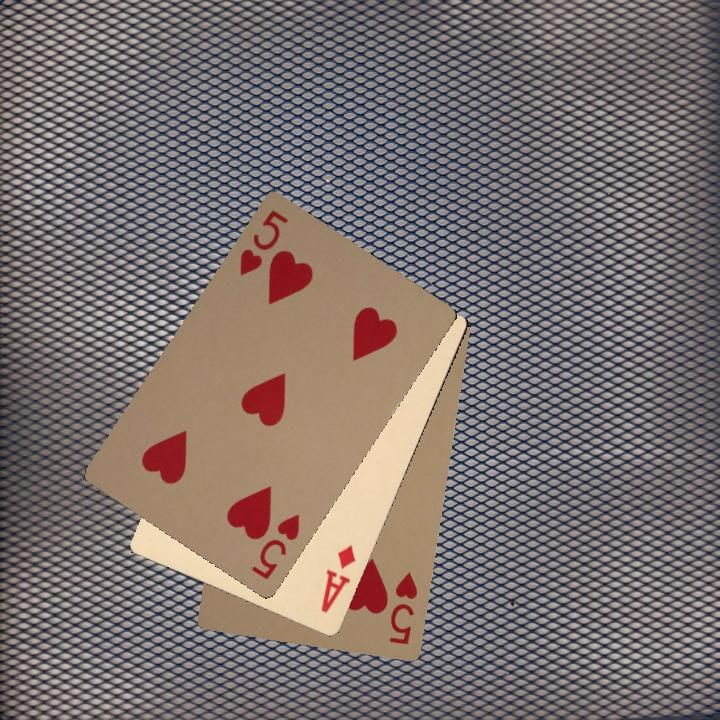5h: (247, 509, 303, 583), (235, 205, 291, 279), (385, 568, 420, 647)
Ad: (316, 542, 359, 616)
